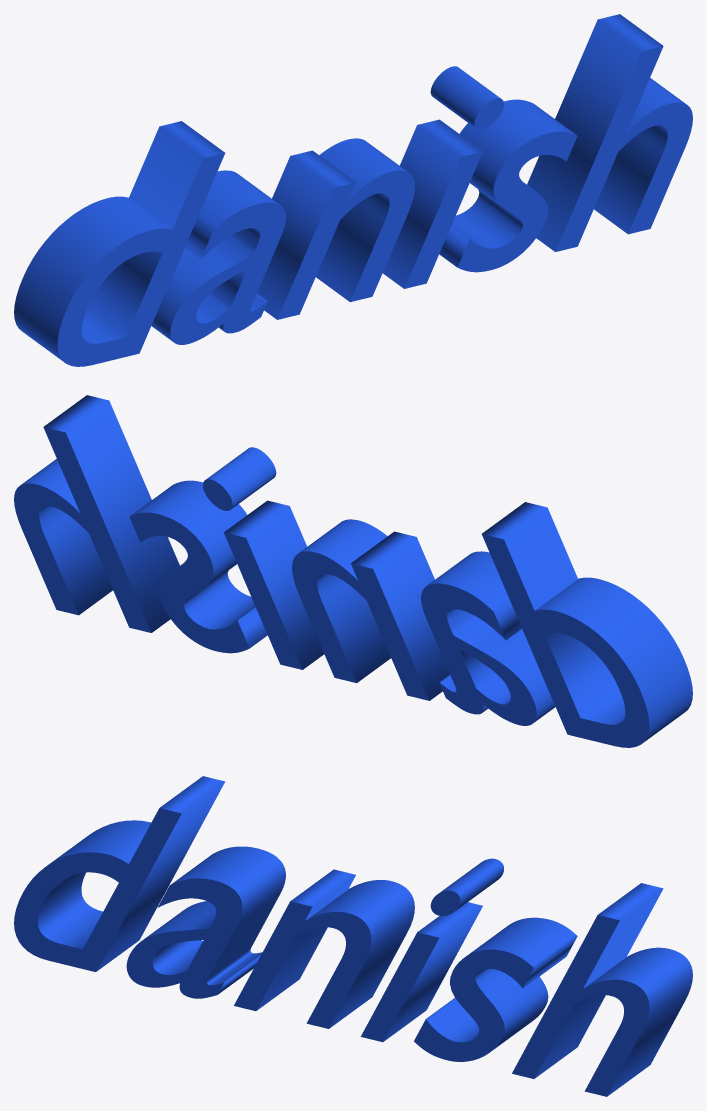
3 renders of one model, top to bottom at view 1: azimuth 30°, elevation 25°; view 2: azimuth 150°, elevation 25°; view 3: azimuth 330°, elevation 25°, orthographic.
Parts seen in each view (by area): view 1: danish; view 2: danish; view 3: danish.
Boxes of the visible parts, left/top/right/bottom form: danish: left=14, top=14, right=692, bottom=366; danish: left=14, top=395, right=692, bottom=747; danish: left=14, top=776, right=692, bottom=1096.
Size of the model in its own units: 5.05 by 1.38 by 0.6.
